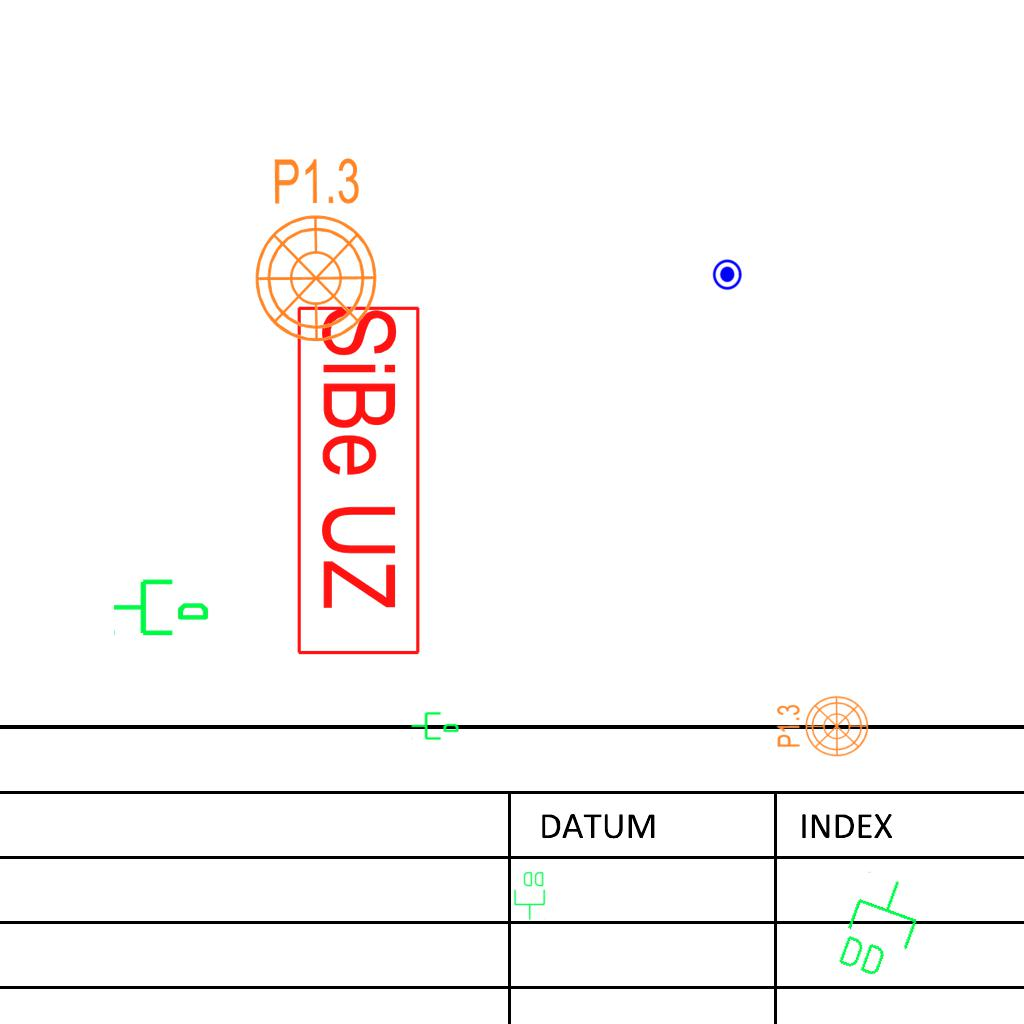Aufbaurundleuchte_LED_Treppenhaus: (252, 140, 391, 345), (768, 689, 870, 758)
Datenanschluss_einfach: (111, 571, 211, 640), (409, 707, 461, 743)
Datenanschluss_zweifach: (830, 867, 931, 988), (513, 870, 547, 921)
Taster: (712, 258, 745, 291)
Zentrale_Sicherheitsbeleuchtung: (293, 303, 423, 660)
